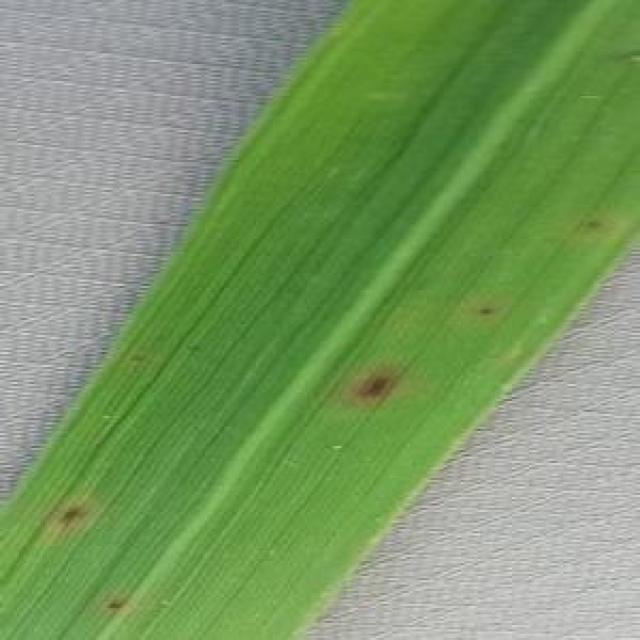Brown_Spot: (344, 358, 420, 411), (51, 498, 102, 540), (103, 588, 135, 630), (572, 210, 606, 232), (468, 304, 503, 322)
